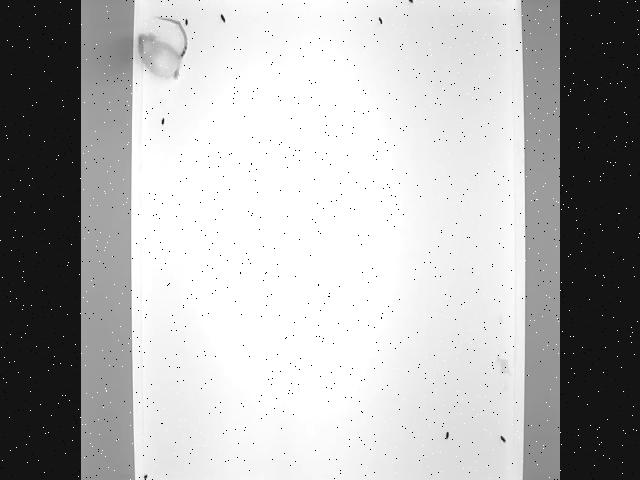Tikus: (136, 17, 188, 80)
